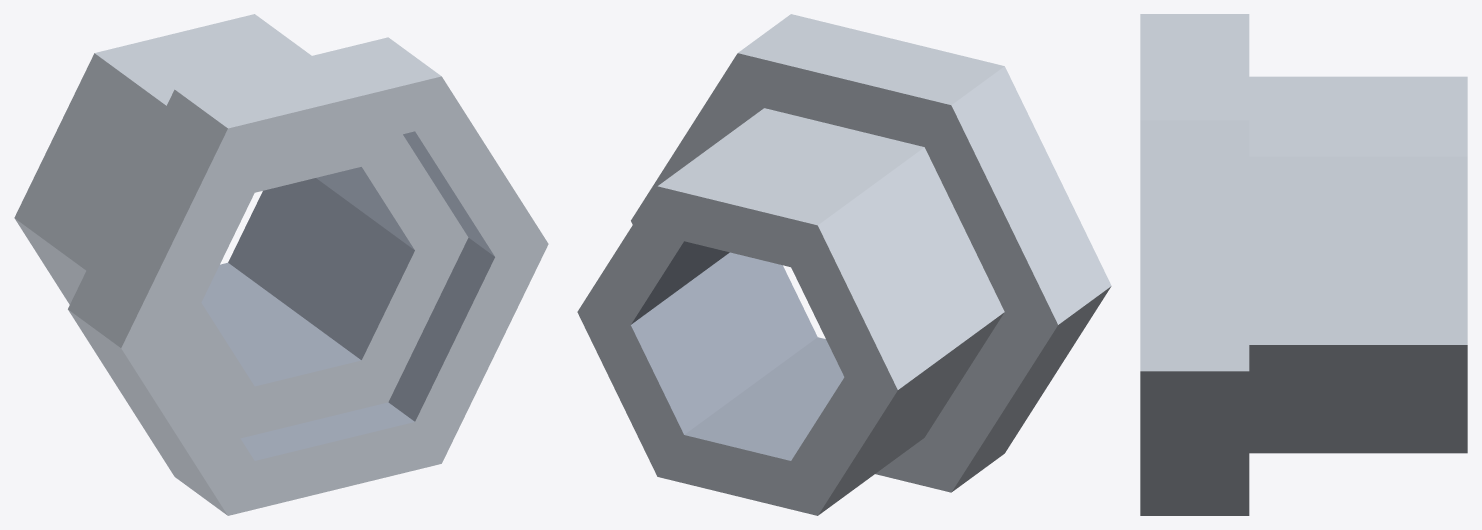
Rendered from pipe_entrance.obj.
The picture shows the model from 3 angles, left to right: view 1: azimuth 30°, elevation 25°; view 2: azimuth 150°, elevation 25°; view 3: azimuth 270°, elevation 25°; orthographic projection. The views are drawn at different scales.
Visible parts, largest first — view 1: pipe_entrance; view 2: pipe_entrance; view 3: pipe_entrance.
Part boxes in pixels (<box>): pipe_entrance: <box>14,14,548,515</box>; pipe_entrance: <box>577,14,1111,515</box>; pipe_entrance: <box>1140,14,1467,515</box>.
Bounding box in the file's own units: 0.9238 × 0.8 × 0.6.
